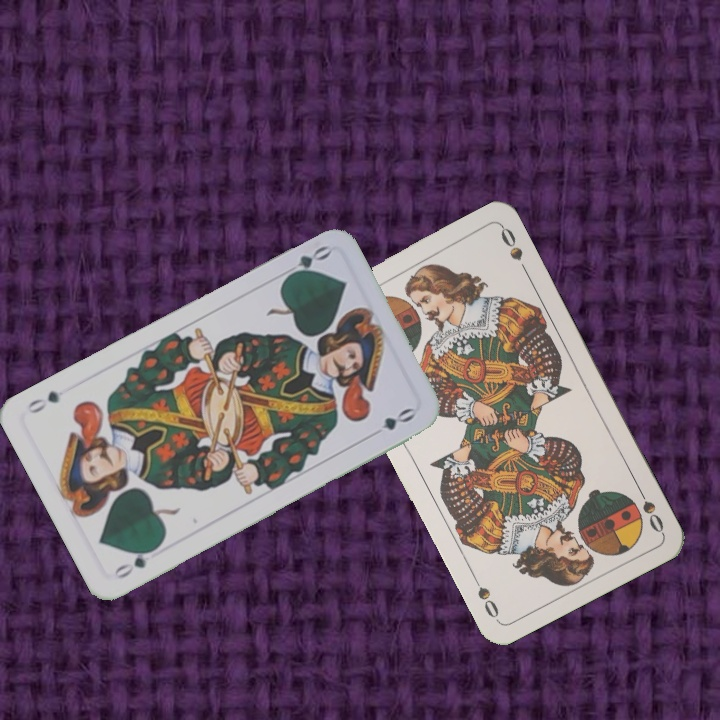GO: (277, 241, 333, 283), (109, 542, 161, 582)
SO: (632, 480, 667, 536)
